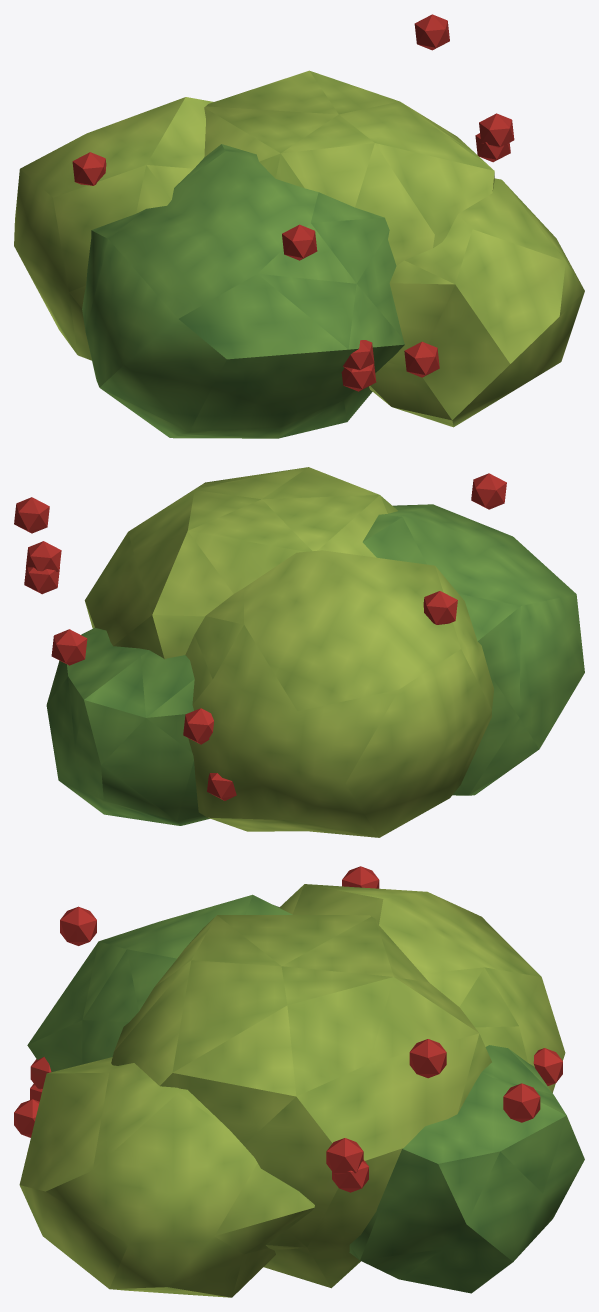
File: SM_Bush03_Berry.fbx
The picture shows the model from 3 angles, top to bottom: view 1: azimuth 30°, elevation 25°; view 2: azimuth 150°, elevation 25°; view 3: azimuth 270°, elevation 25°; orthographic projection. The views are drawn at different scales.
Visible parts, largest first — view 1: SM_Bush03_Berry; view 2: SM_Bush03_Berry; view 3: SM_Bush03_Berry.
Part boxes in pixels (left/top/right/bottom): SM_Bush03_Berry: left=14, top=14, right=584, bottom=438; SM_Bush03_Berry: left=14, top=467, right=584, bottom=837; SM_Bush03_Berry: left=14, top=866, right=584, bottom=1297.
Size of the model in its own units: 3.26 by 1.84 by 3.14.
Materials: 1 (1 with a texture image).
